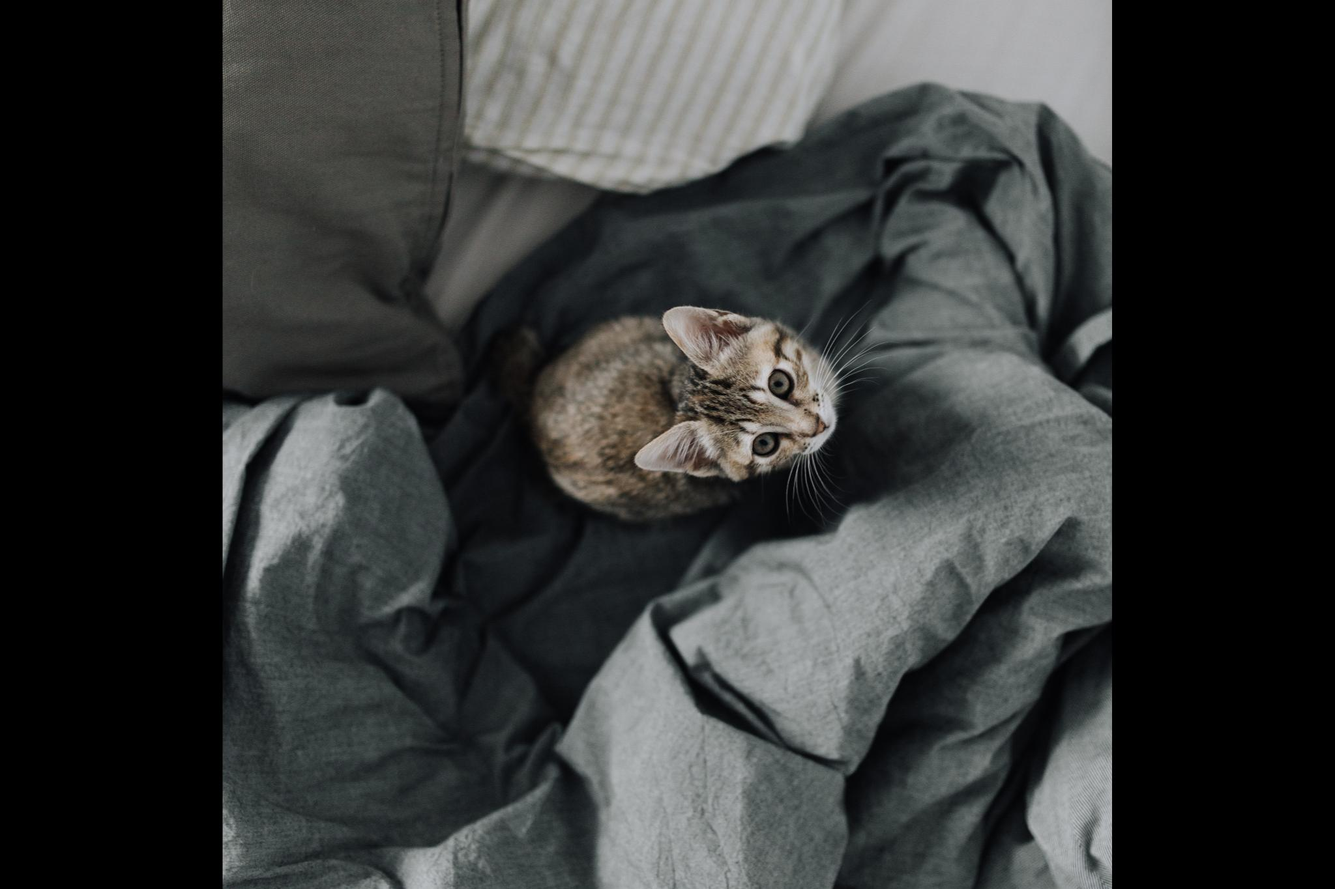cat: (491, 299, 889, 527)
